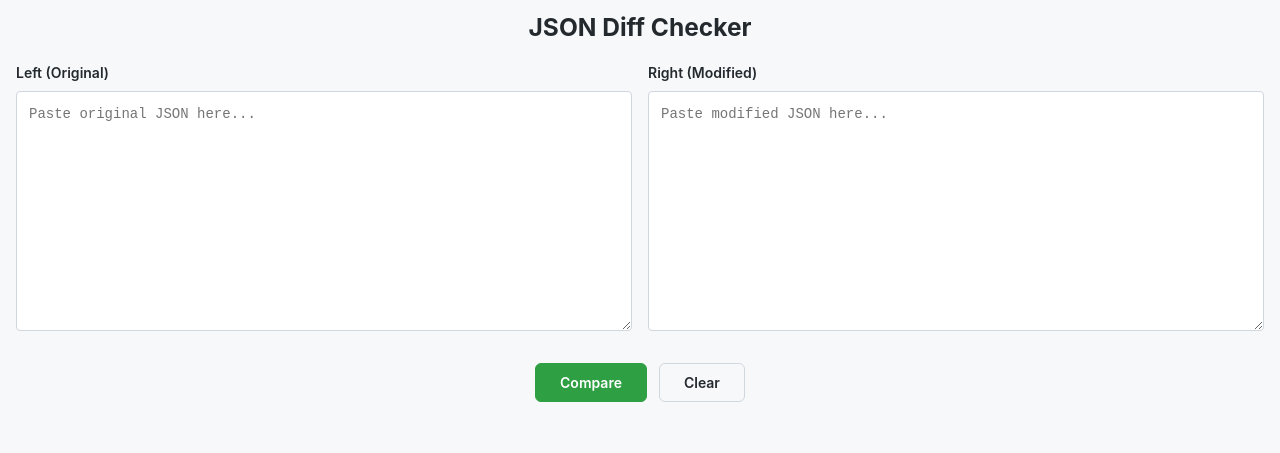
Test case: App — Integration Tests › T2-07 (AC-4): empty left input → "Left input is empty" error visible
// Leave left empty, put valid JSON in right
Click the text box named "Right JSON input". click: {"x": 956, "y": 211}
box: [648, 91, 1264, 331]
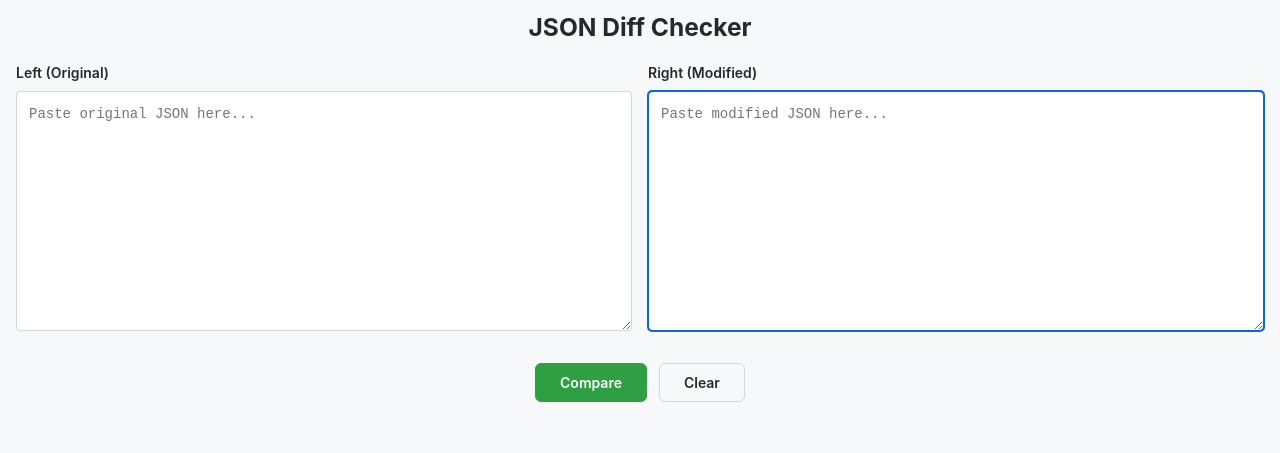
Type keys "{\"a\":1}"
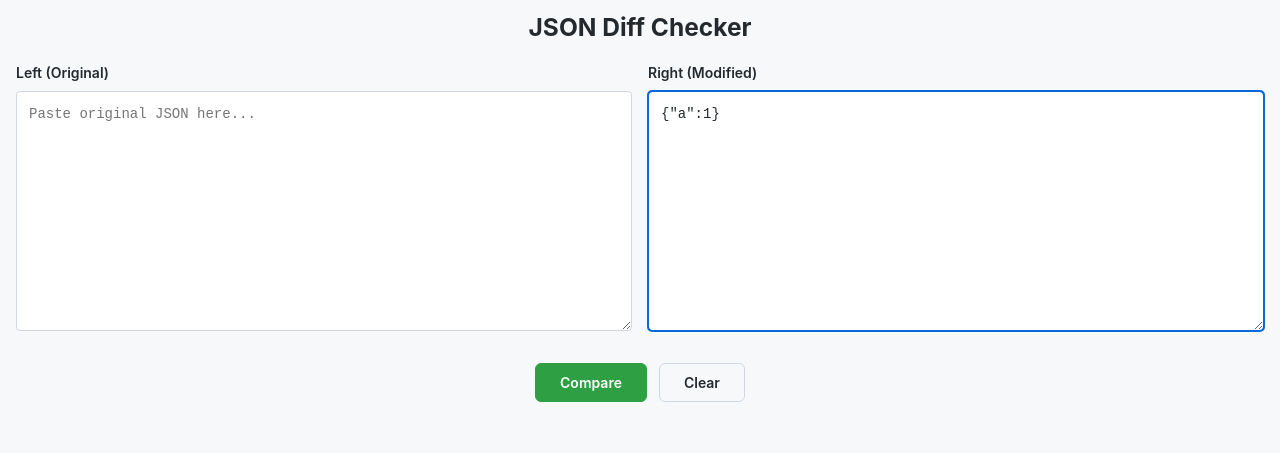
Click the button "Compare". click: {"x": 591, "y": 382}
box: [535, 363, 647, 402]
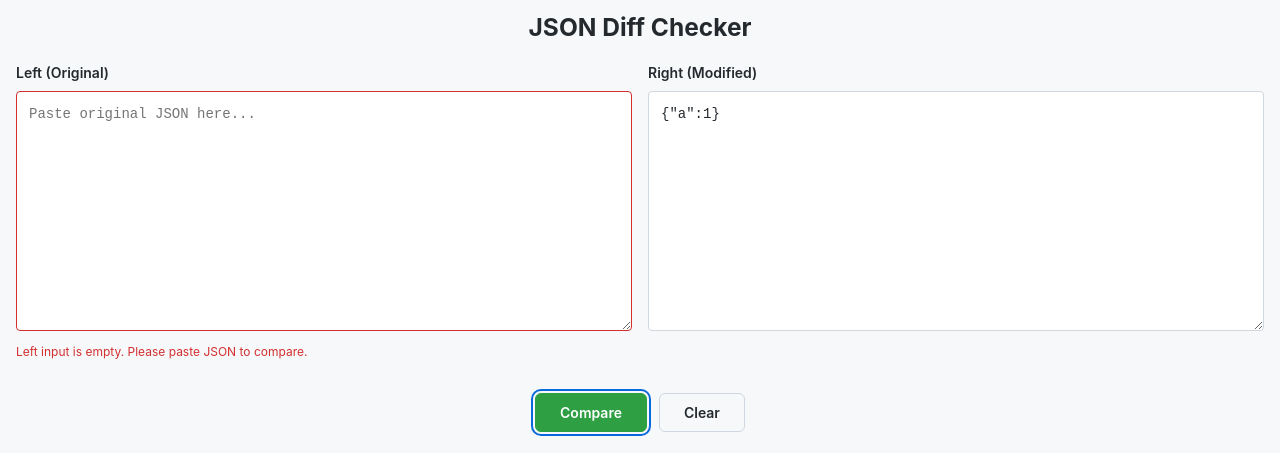
Expected: the number of messages is 1, [16, 344, 307, 359]
Expected: the message shows "Left input is empty", [16, 344, 307, 359]
